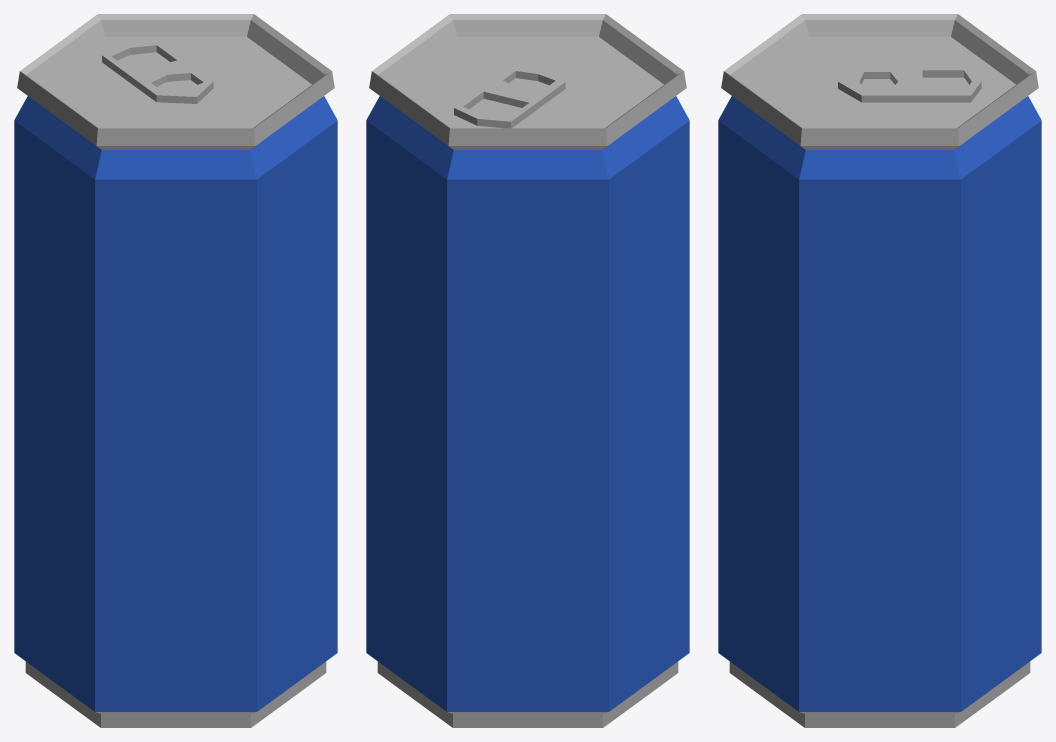
The model's file is BeverageCan2Blue.fbx.
The picture shows the model from 3 angles, left to right: view 1: azimuth 30°, elevation 25°; view 2: azimuth 150°, elevation 25°; view 3: azimuth 270°, elevation 25°; orthographic projection.
Parts seen in each view (by area): view 1: Cylinder; view 2: Cylinder; view 3: Cylinder.
Boxes of the visible parts, x1,y1,x2,y2 form: Cylinder: [14, 14, 337, 727]; Cylinder: [366, 14, 689, 727]; Cylinder: [718, 14, 1041, 727].
Size of the model in its own units: 0.1183 by 0.2802 by 0.1366.
